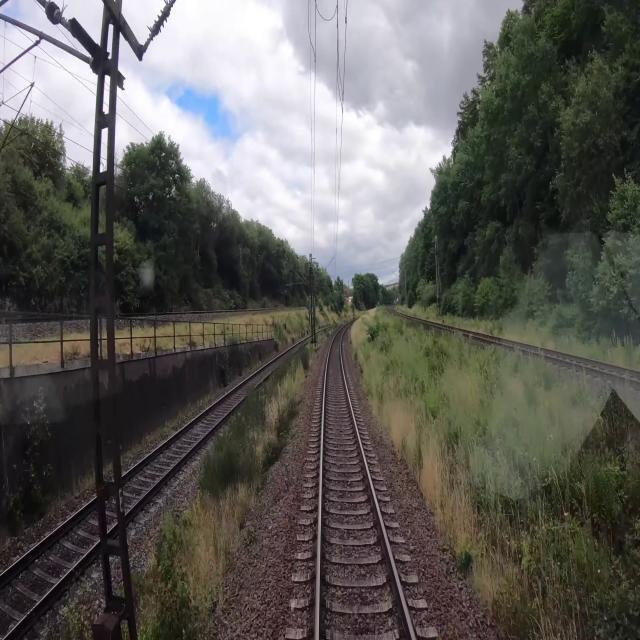Plant: (350, 304, 639, 639), (115, 327, 334, 639), (246, 526, 256, 543)
